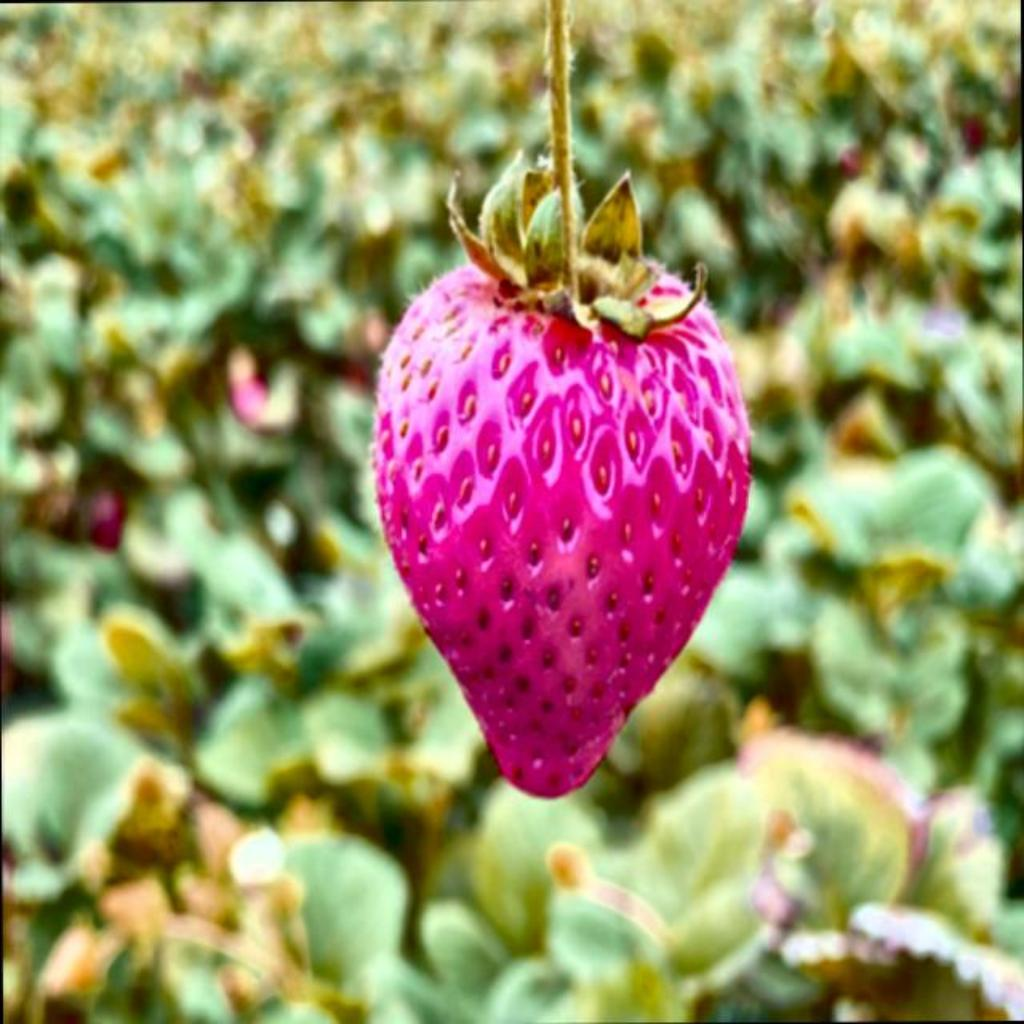strawberry: (374, 0, 750, 797)
